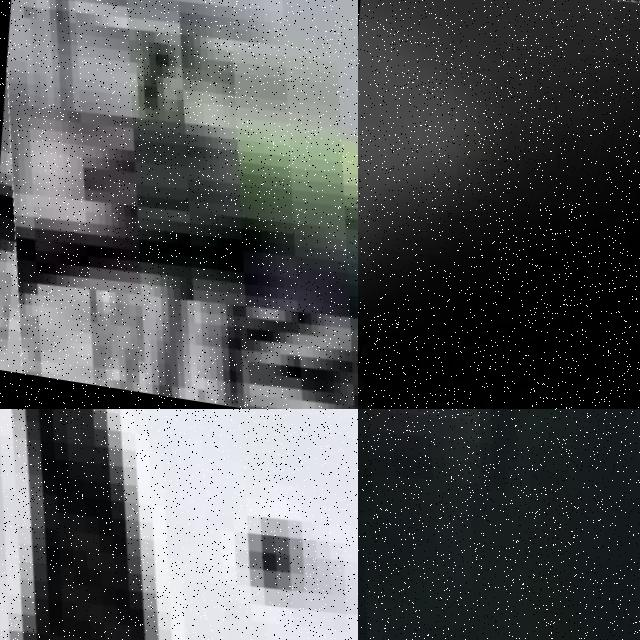0: (0, 0, 358, 409)
drone: (358, 0, 640, 409), (0, 409, 358, 640), (358, 409, 640, 640)
